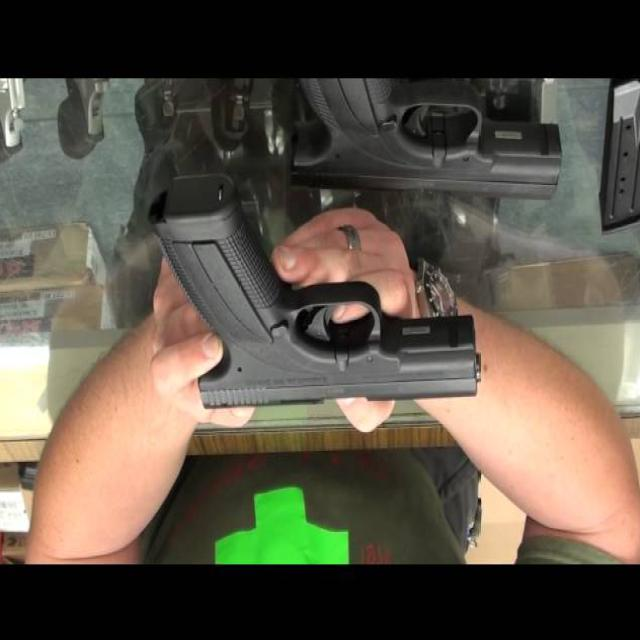Gun: (183, 170, 495, 420)
